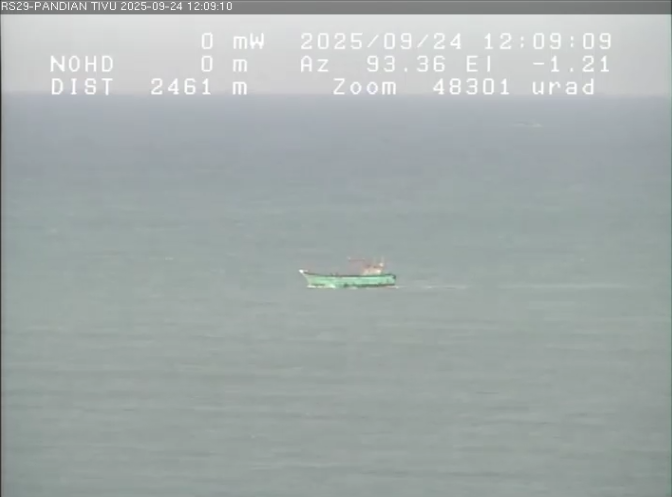FISHING_BOAT: (274, 245, 424, 301)
